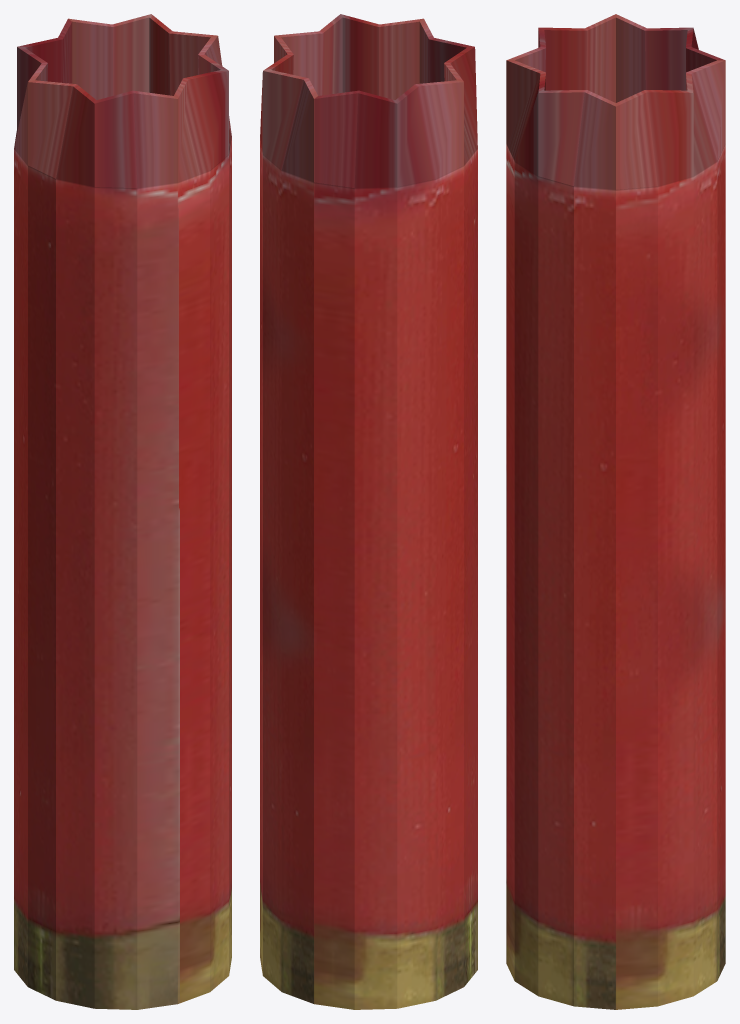
The model's file is MDL_Ammo_ShotgunShell_Spent.fbx.
The picture shows the model from 3 angles, left to right: view 1: azimuth 30°, elevation 25°; view 2: azimuth 150°, elevation 25°; view 3: azimuth 270°, elevation 25°; orthographic projection.
Visible parts, largest first — view 1: Ammo_Shell; view 2: Ammo_Shell; view 3: Ammo_Shell.
Part boxes in pixels (x1=…): Ammo_Shell: x1=14, y1=14, x2=231, y2=1009; Ammo_Shell: x1=260, y1=14, x2=477, y2=1009; Ammo_Shell: x1=506, y1=14, x2=725, y2=1009.
Size of the model in its own units: 1.84 by 8.37 by 1.84.
